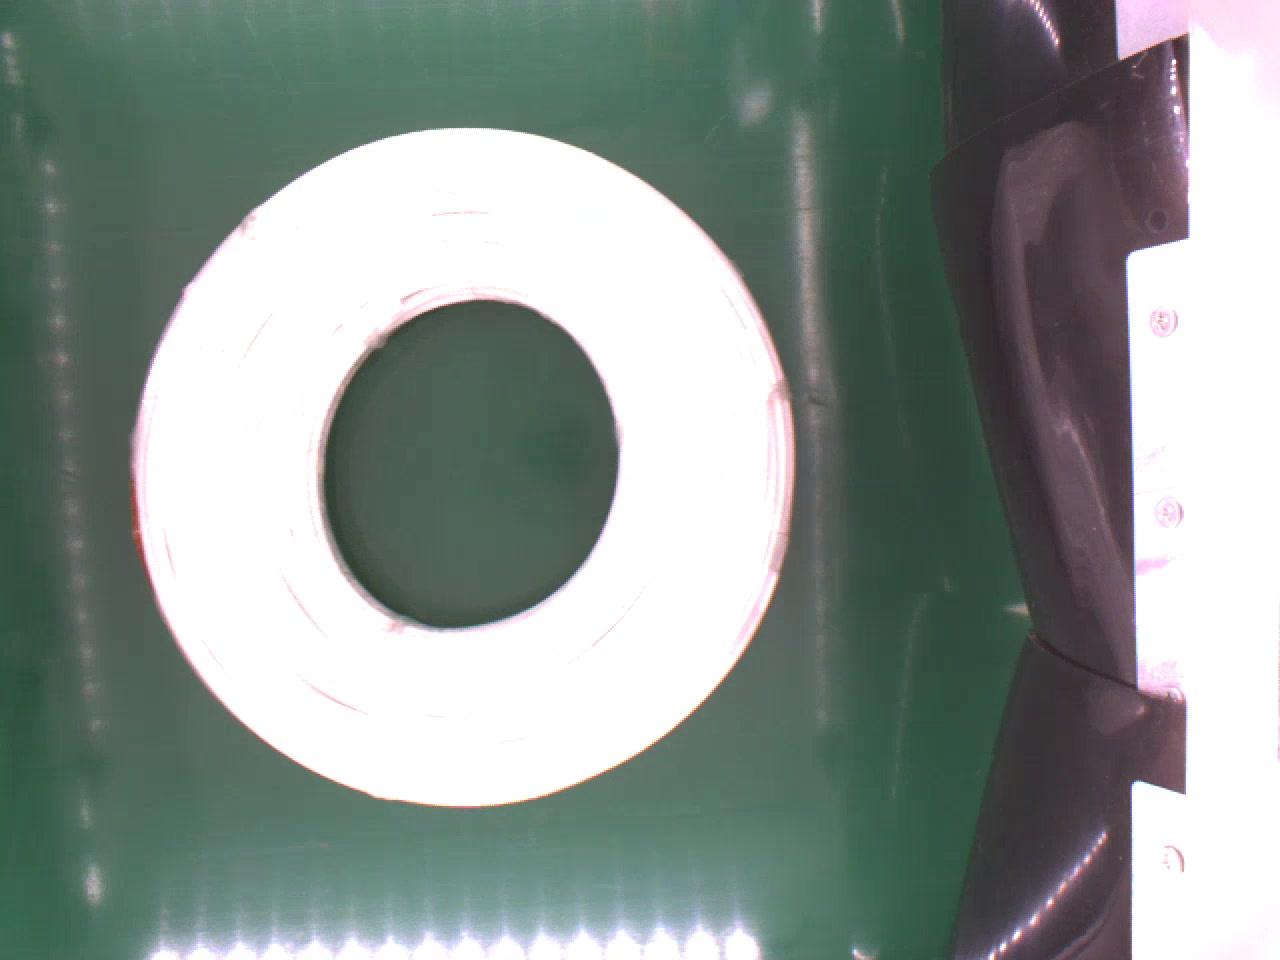white: (135, 123, 799, 808)
